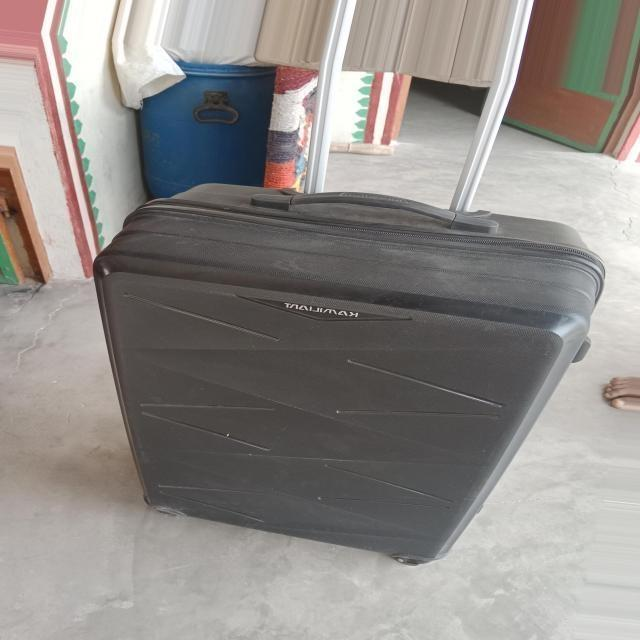Suitcase: (72, 0, 621, 567)
